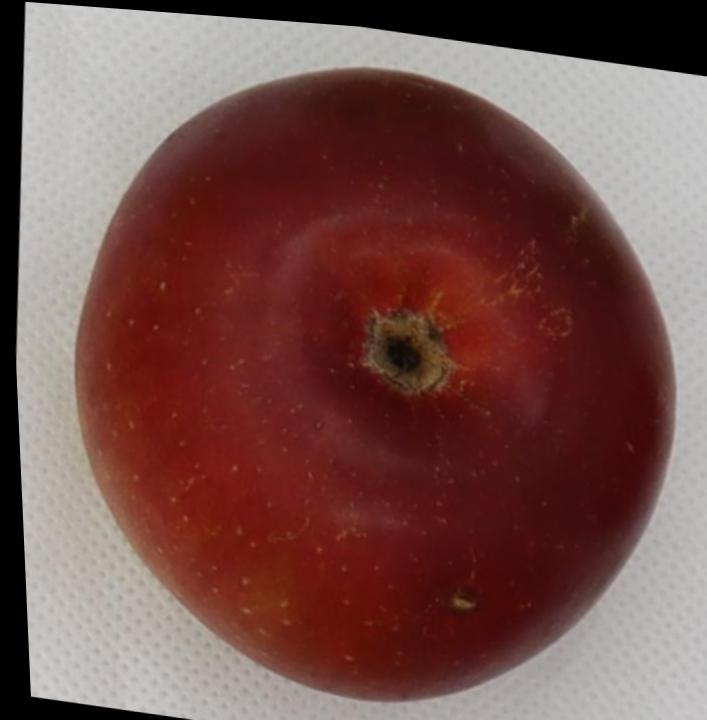apple: (75, 71, 673, 701)
surface_damage: (448, 590, 477, 611)
